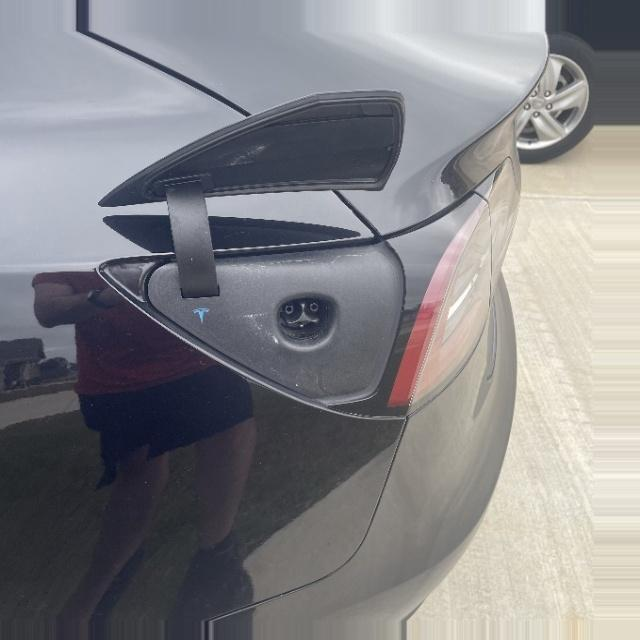Tesla Model-S-: (266, 289, 355, 365)
